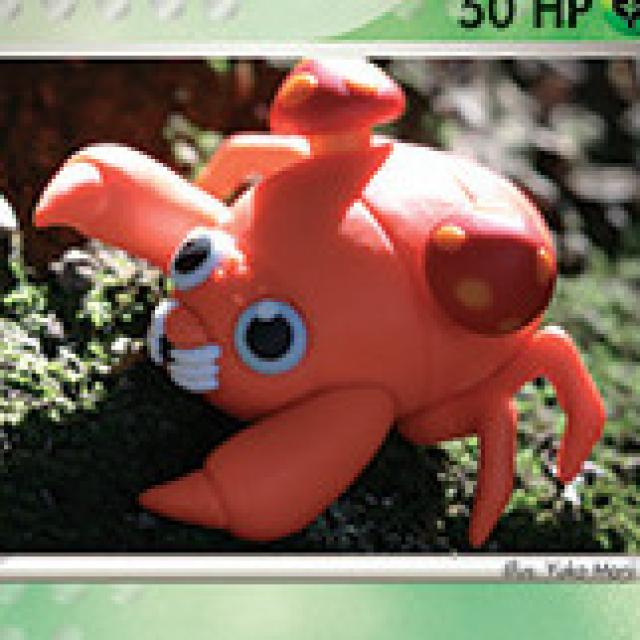Paras: (0, 57, 609, 541)
